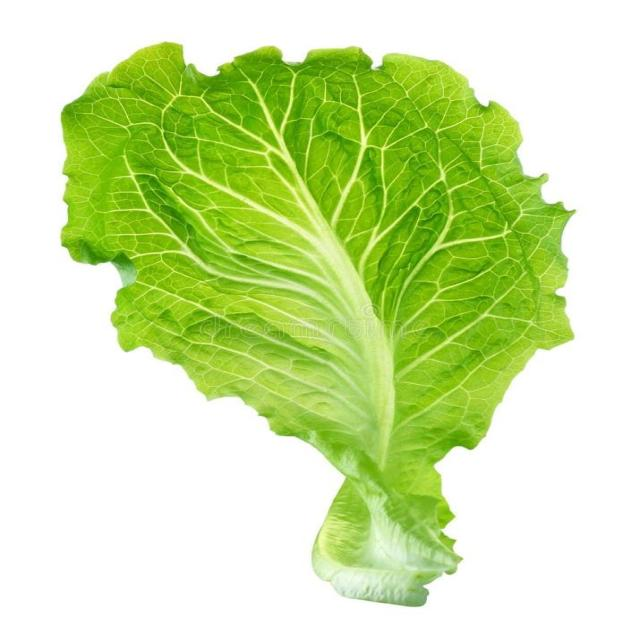lettuce: (63, 44, 571, 605)
